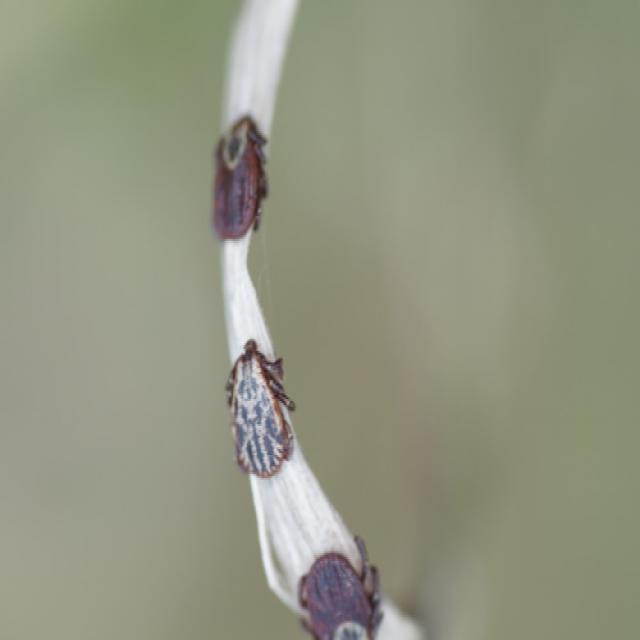Dermacentor Reticulatus-F: (296, 538, 384, 640), (212, 114, 269, 241)
Dermacentor Reticulatus-M: (225, 339, 302, 482)
